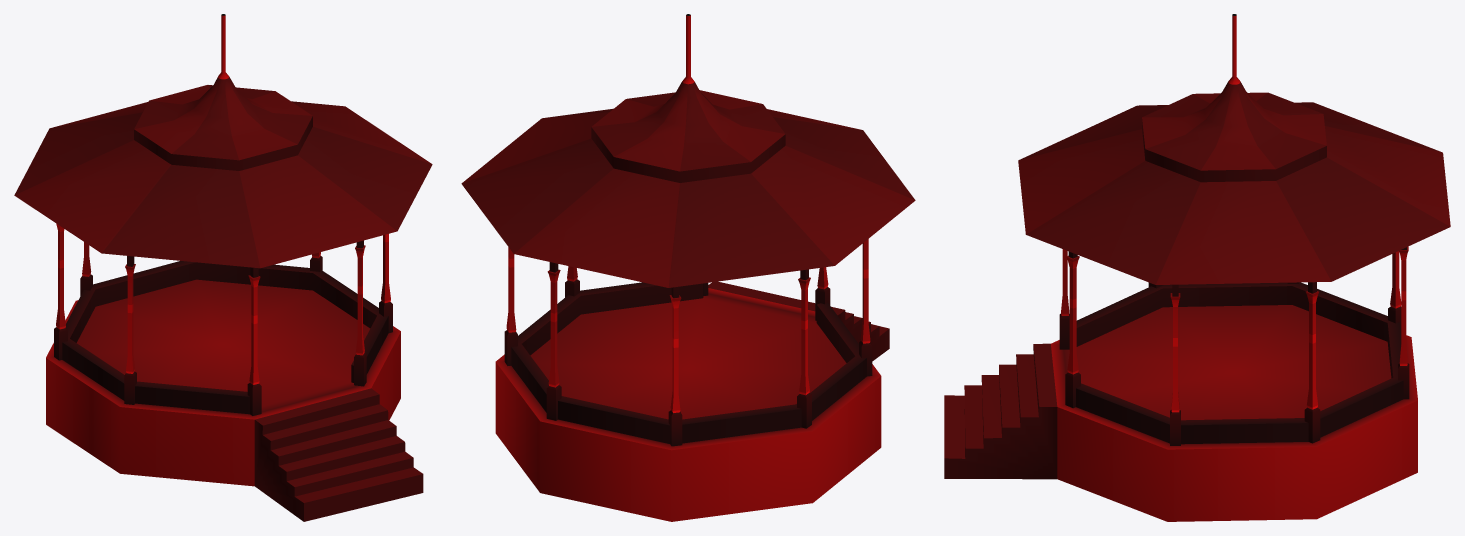
The model's file is buildings-historical-bandstand_v1.fbx.
3 views of the same model, side by side, from view 1: azimuth 30°, elevation 25°; view 2: azimuth 150°, elevation 25°; view 3: azimuth 270°, elevation 25° (orthographic). The views are drawn at different scales.
Parts seen in each view (by area): view 1: Bandstand.001; view 2: Bandstand.001; view 3: Bandstand.001.
Part boxes in pixels (x1,y1,x2,y2): Bandstand.001: [14, 14, 432, 521]; Bandstand.001: [461, 14, 915, 521]; Bandstand.001: [944, 14, 1450, 521].
Size of the model in its own units: 9.37 by 10.27 by 10.97.
